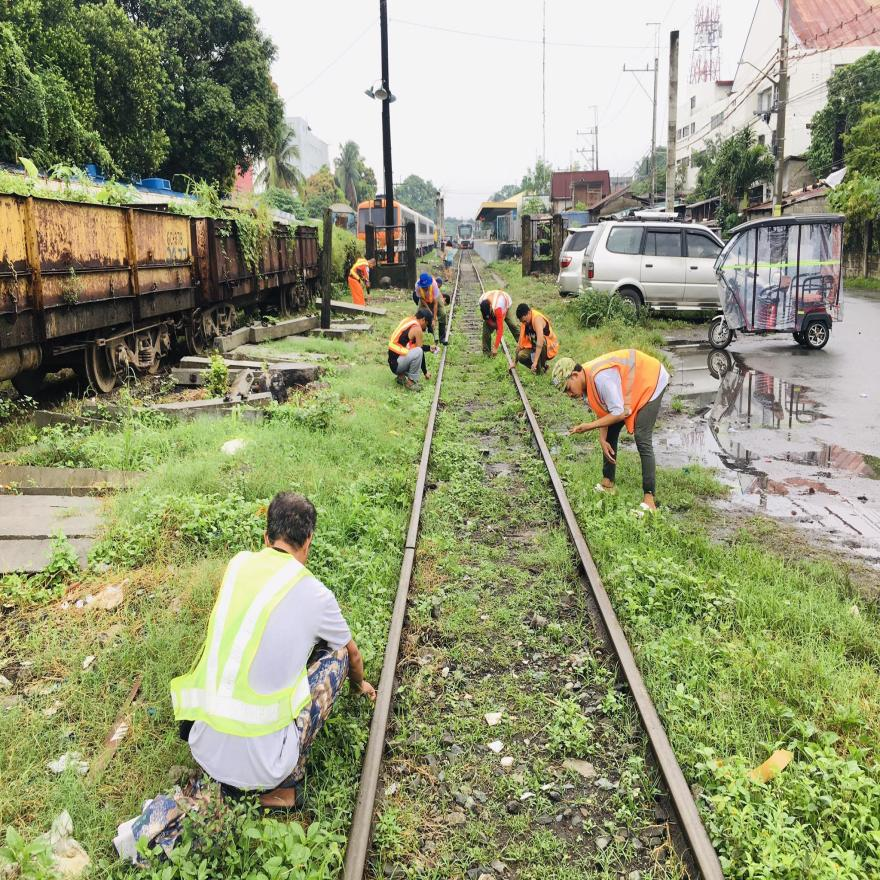railway-gap: (390, 517, 432, 573)
